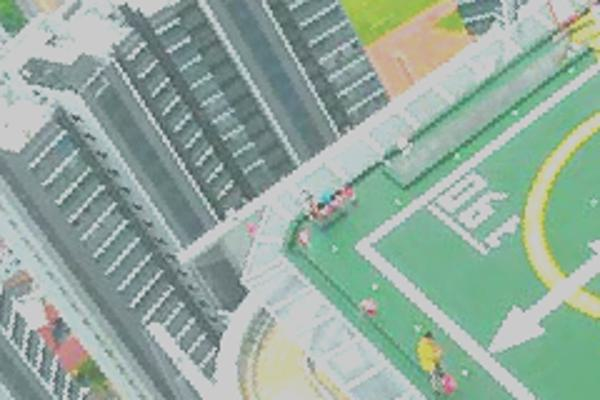Apron: (507, 96, 600, 330)
